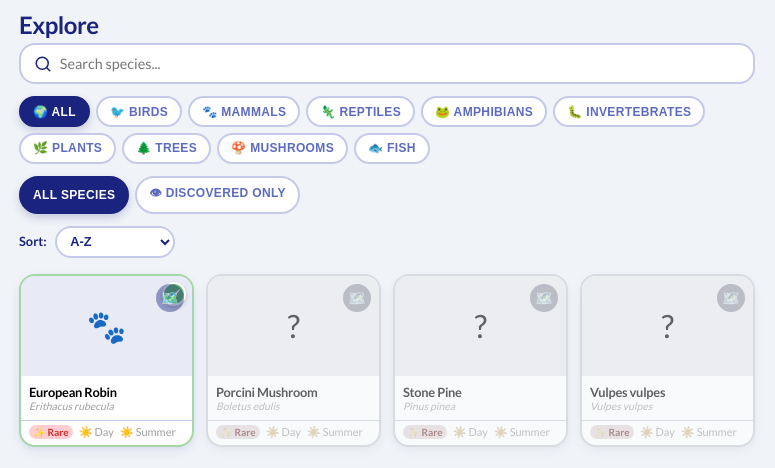
Test case: ChecklistPage › search filters species by scientificName
Type "vulpes" into the field labelled "Search species" at (400, 64), box [60,55,740,72]
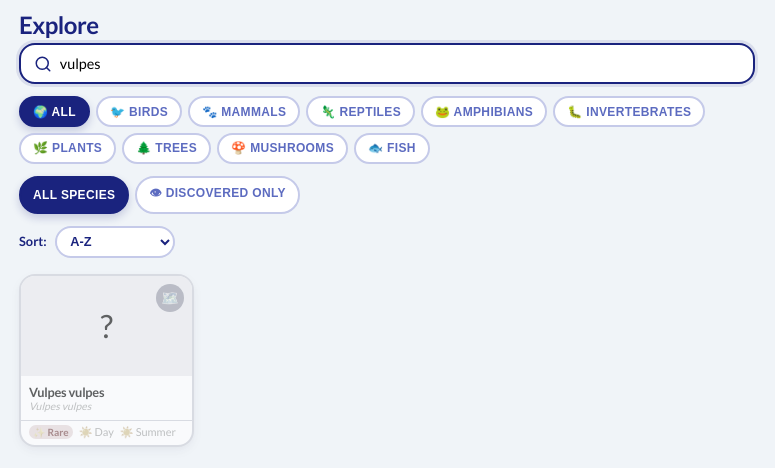
Expected: the button "European Robin" is gone
